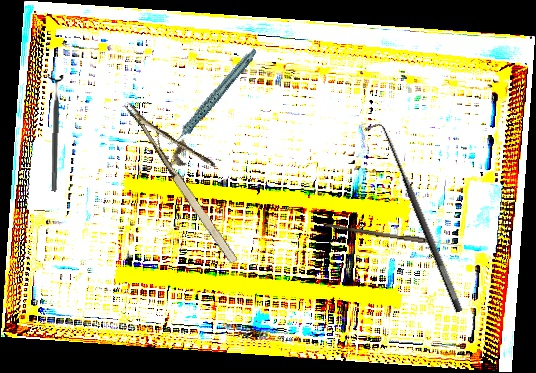Fixation Ring: (44, 74, 65, 192)
Handpiece: (150, 47, 274, 149)
Hook Surgical: (363, 117, 467, 320)
Needle Holder: (123, 80, 265, 268)
Surgical Spoon: (325, 223, 462, 249)
